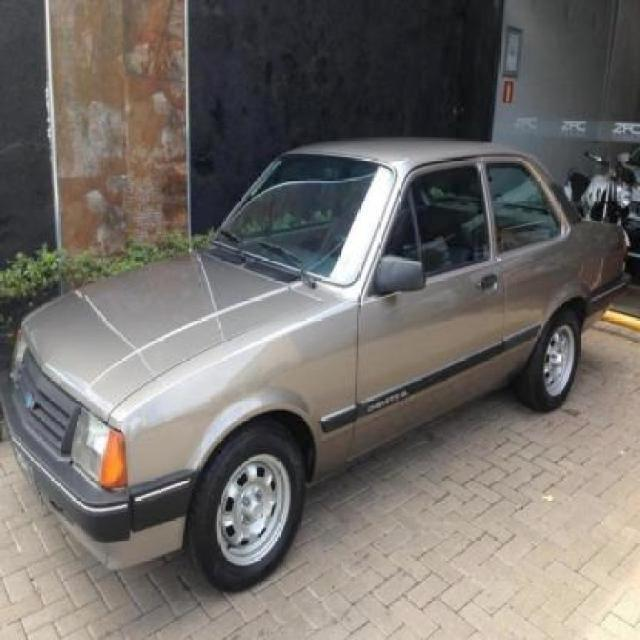car: (3, 146, 634, 594)
